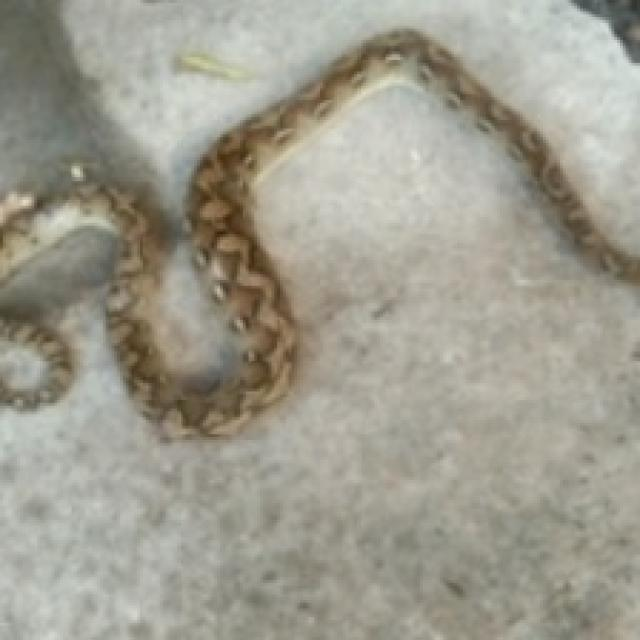reticulated python: (0, 29, 637, 434), (0, 303, 71, 406)
